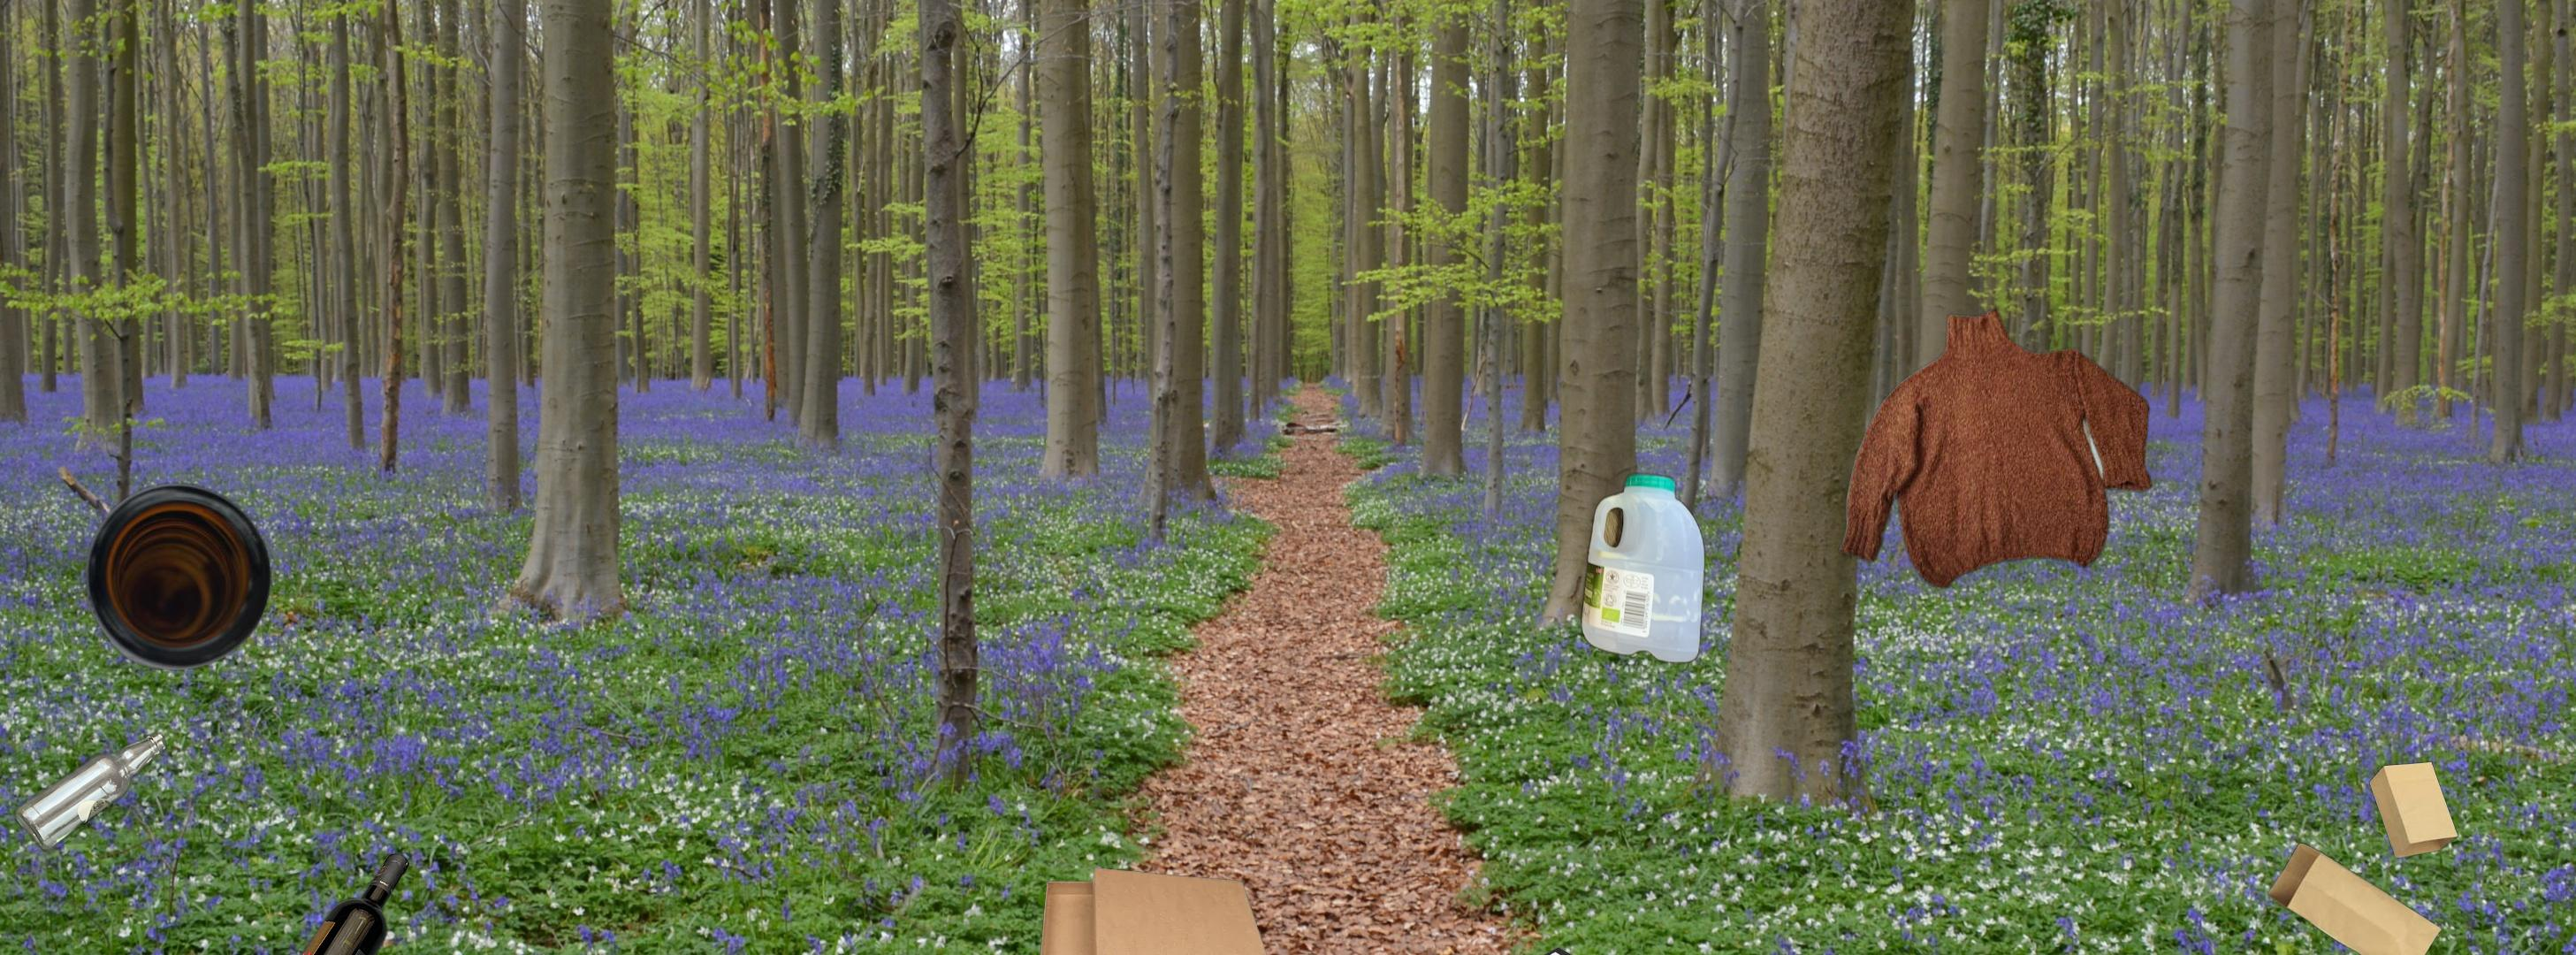battery: (1410, 945, 1610, 955)
clothes: (1837, 304, 2155, 592)
glass: (10, 727, 414, 955), (82, 482, 274, 672)
paper-bag: (2241, 759, 2461, 955)
plastic-bottles: (1577, 468, 1709, 669)
trashbox-cardboard: (1037, 866, 1275, 955)
